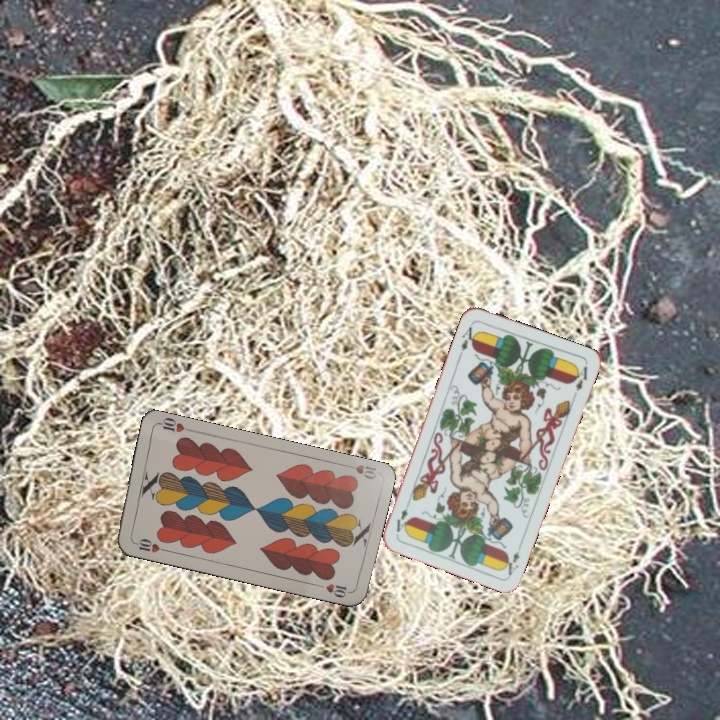EA: (500, 539, 524, 578), (457, 319, 480, 354)
H10: (340, 460, 380, 482), (129, 534, 169, 555)
